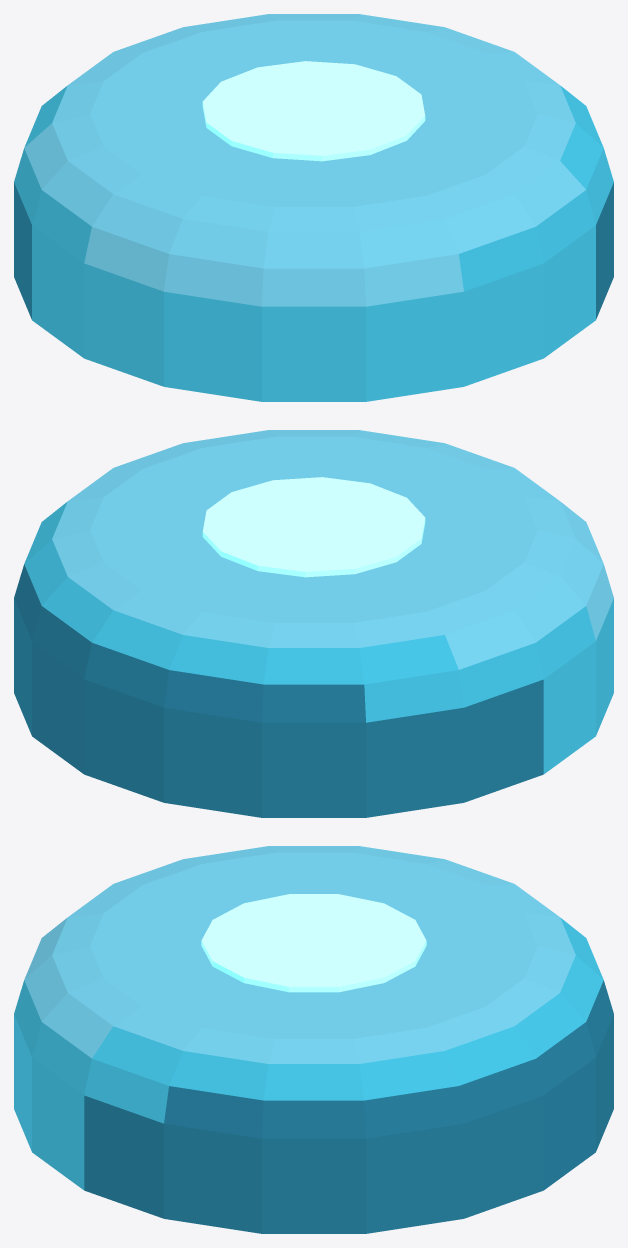
Rendered from Plate_LatchPad.gltf.
The picture shows the model from 3 angles, top to bottom: view 1: azimuth 30°, elevation 25°; view 2: azimuth 150°, elevation 25°; view 3: azimuth 270°, elevation 25°; orthographic projection.
Parts seen in each view (by area): view 1: Plate_LatchPad_baked; view 2: Plate_LatchPad_baked; view 3: Plate_LatchPad_baked.
Part boxes in pixels (x1=…): Plate_LatchPad_baked: x1=14, y1=14, x2=613, y2=401; Plate_LatchPad_baked: x1=14, y1=430, x2=613, y2=817; Plate_LatchPad_baked: x1=14, y1=846, x2=613, y2=1233.
Size of the model in its own units: 0.3939 by 0.124 by 0.4.
